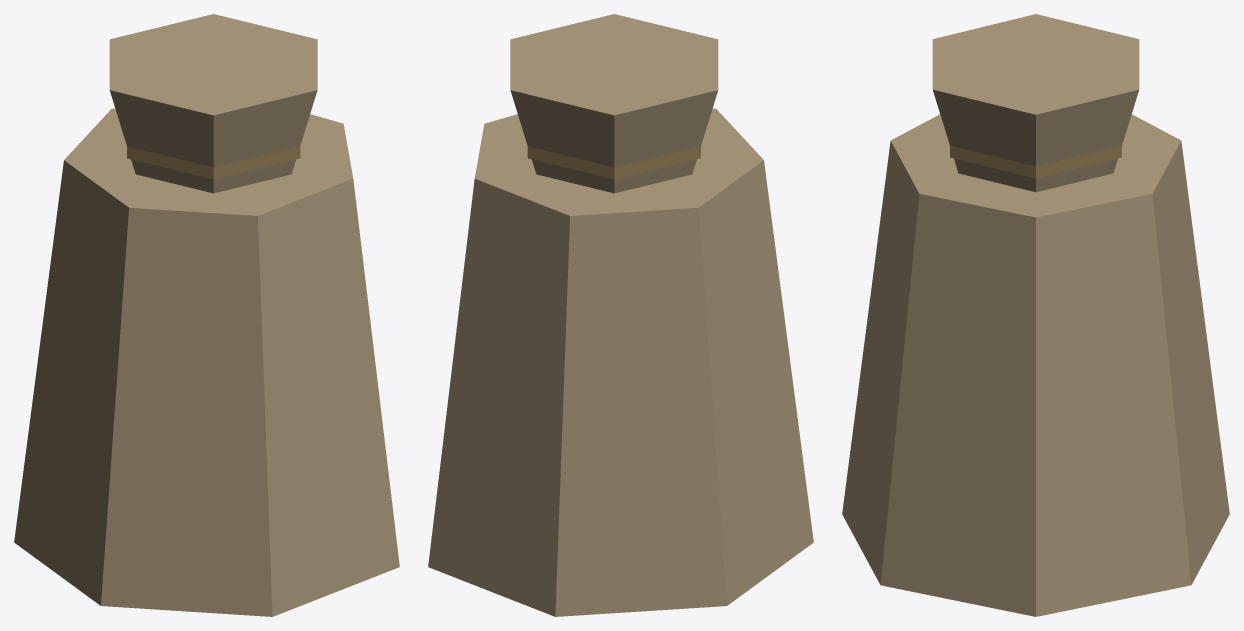
The model's file is sack.glb.
The picture shows the model from 3 angles, left to right: view 1: azimuth 30°, elevation 25°; view 2: azimuth 150°, elevation 25°; view 3: azimuth 270°, elevation 25°; orthographic projection.
Parts seen in each view (by area): view 1: sack; view 2: sack; view 3: sack.
Part boxes in pixels (x1,y1,x2,y2): sack: [14, 14, 399, 616]; sack: [428, 14, 813, 616]; sack: [842, 14, 1229, 616].
Bounding box in the file's own units: 0.3802 × 0.52 × 0.39.
